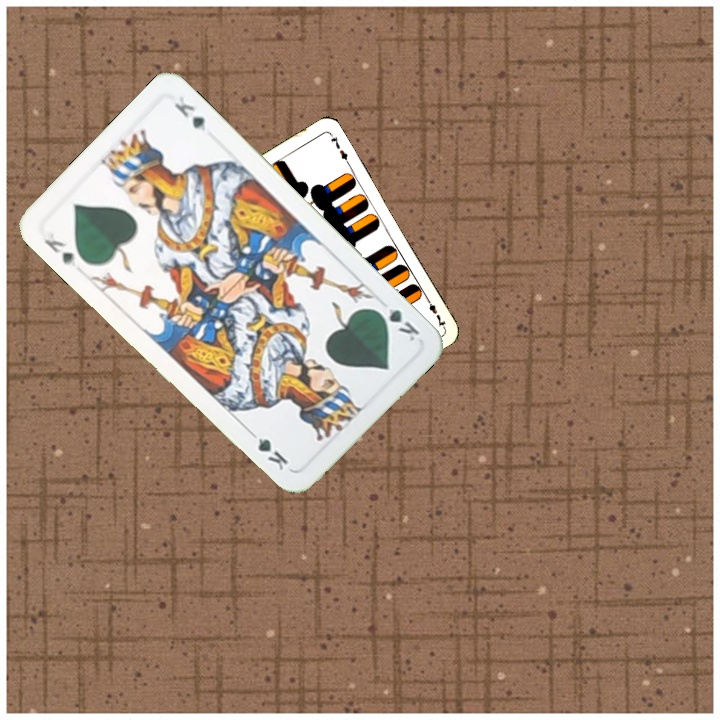E7: (422, 292, 448, 330)
GK: (370, 304, 422, 345), (39, 225, 80, 270)
